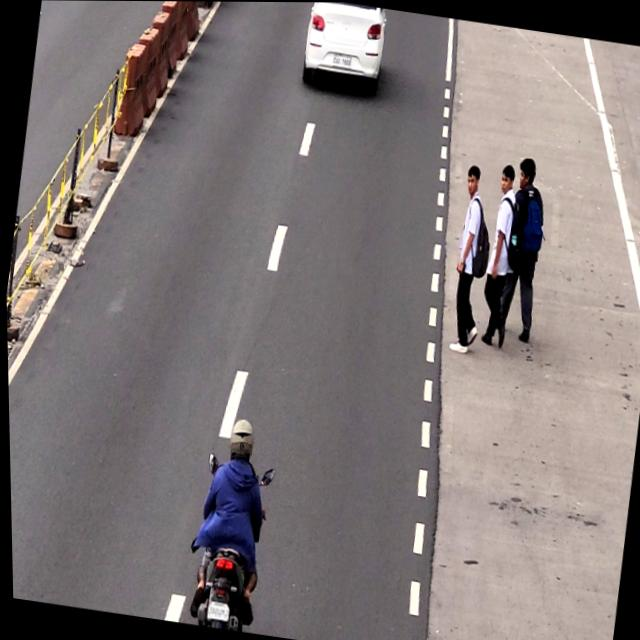Car: (297, 2, 395, 96)
License-Plate: (202, 597, 229, 623), (331, 54, 352, 73)
Motorcycle: (184, 415, 283, 634)
